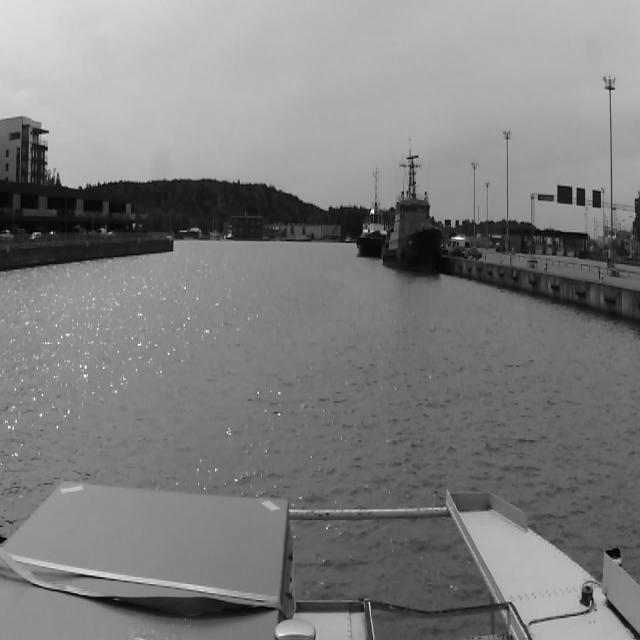ship: (385, 144, 446, 273), (360, 208, 384, 258)
